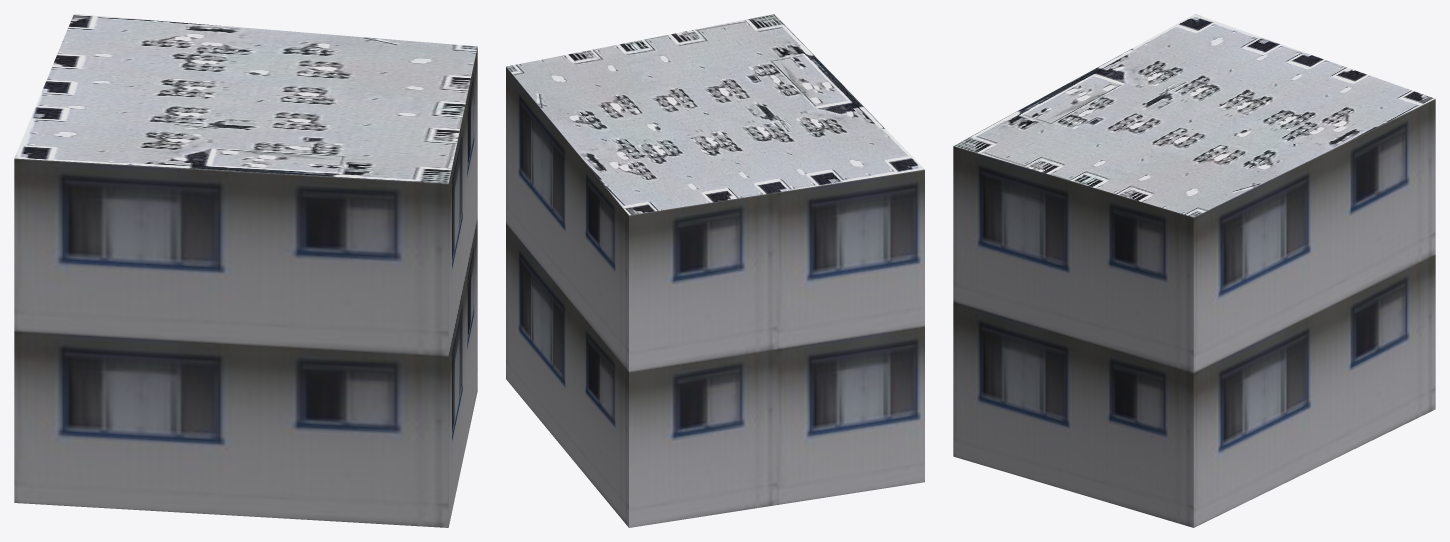
Rendered from ResTex__4206.fbx.
3 views of the same model, side by side, from view 1: azimuth 30°, elevation 25°; view 2: azimuth 150°, elevation 25°; view 3: azimuth 270°, elevation 25° (orthographic). The views are drawn at different scales.
Parts seen in each view (by area): view 1: CityEngineMaterial_9_m, CityEngineMaterial_2_m; view 2: CityEngineMaterial_9_m, CityEngineMaterial_2_m; view 3: CityEngineMaterial_9_m, CityEngineMaterial_2_m.
Part boxes in pixels (x1=…): CityEngineMaterial_9_m: x1=14, y1=47, x2=477, y2=527; CityEngineMaterial_2_m: x1=14, y1=14, x2=477, y2=183; CityEngineMaterial_9_m: x1=506, y1=67, x2=924, y2=527; CityEngineMaterial_2_m: x1=506, y1=14, x2=924, y2=215; CityEngineMaterial_9_m: x1=953, y1=99, x2=1435, y2=527; CityEngineMaterial_2_m: x1=954, y1=14, x2=1435, y2=217.
Bounding box in the file's own units: 8.43 × 6 × 8.45.
2 materials, 2 textured.
